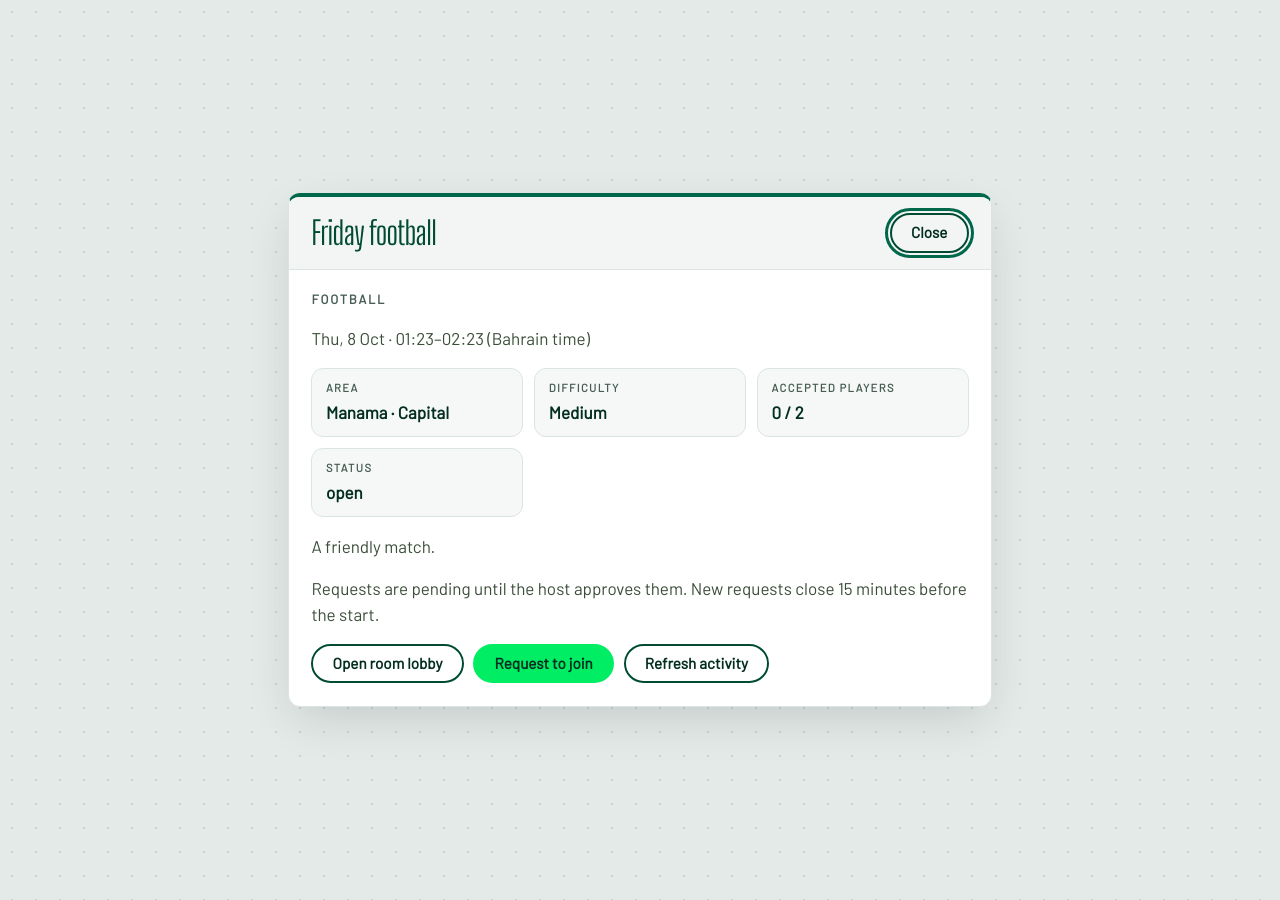
Scenario: fresh membership decisions › requests a pending place, refreshes the UI and notifies the parent list
Click the button "Request to join": (544, 664) [473, 644, 614, 684]
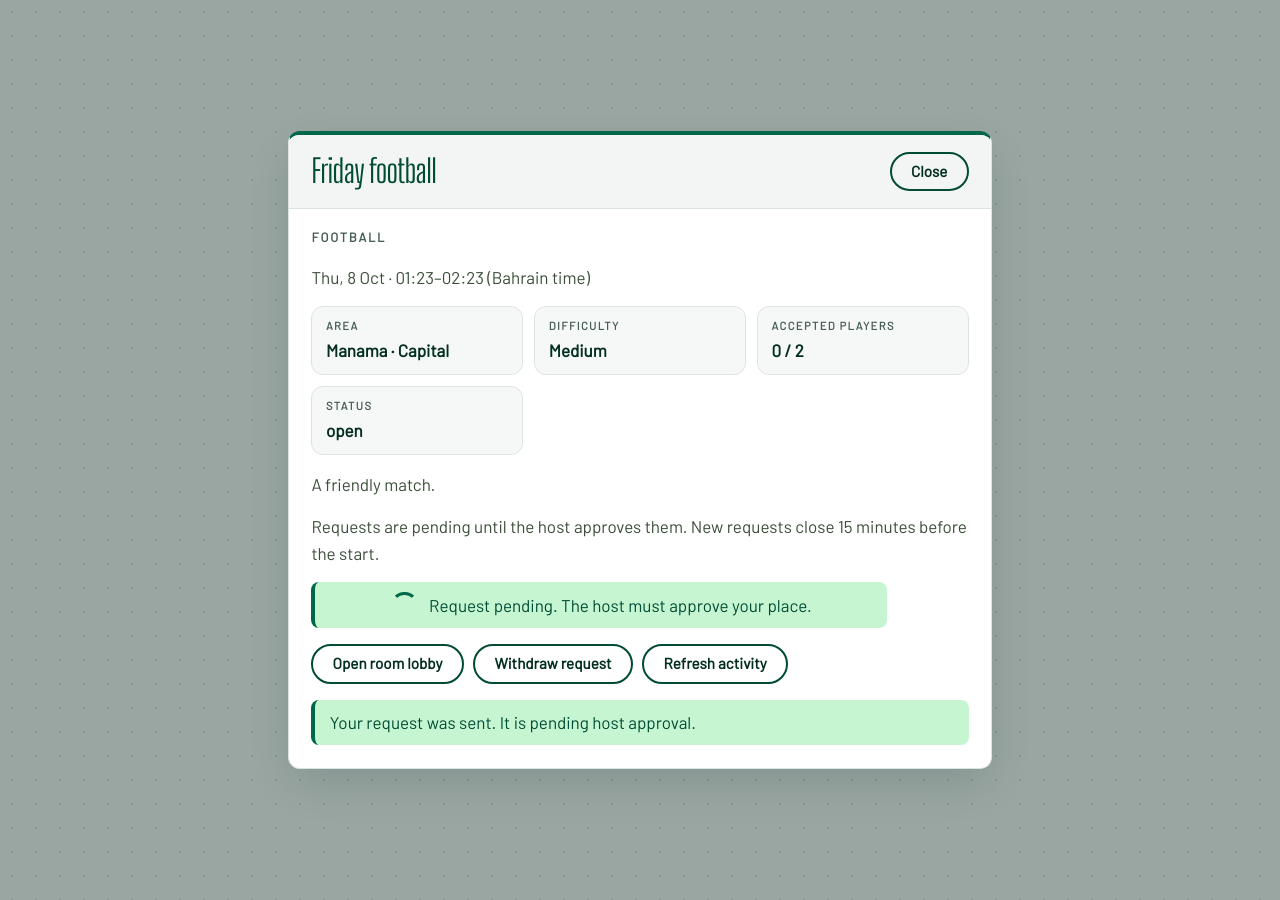
Now the text "Request pending. The host must approve your place." is shown, box [311, 582, 887, 628]
Now the button "Request to join" is gone
Now the button "Withdraw request" is shown, box [473, 644, 633, 684]
